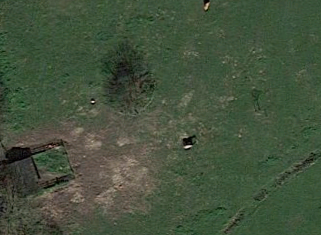tree: (99, 62, 165, 120)
